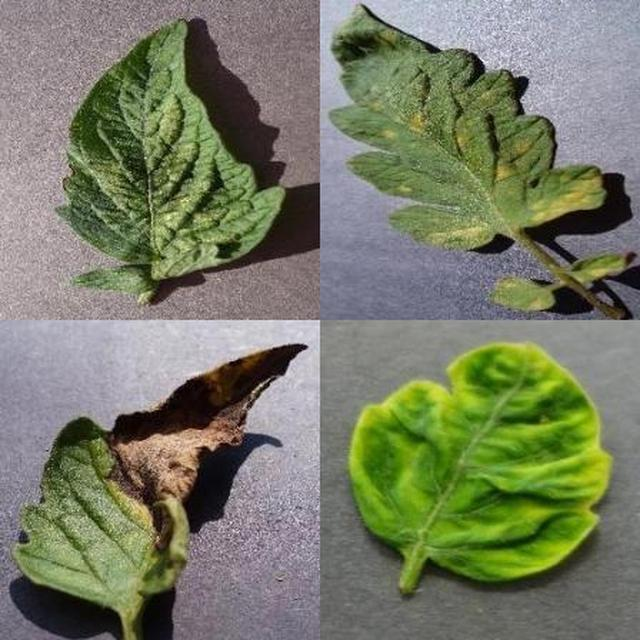Spider Mites Leaf: (233, 180, 640, 640)
